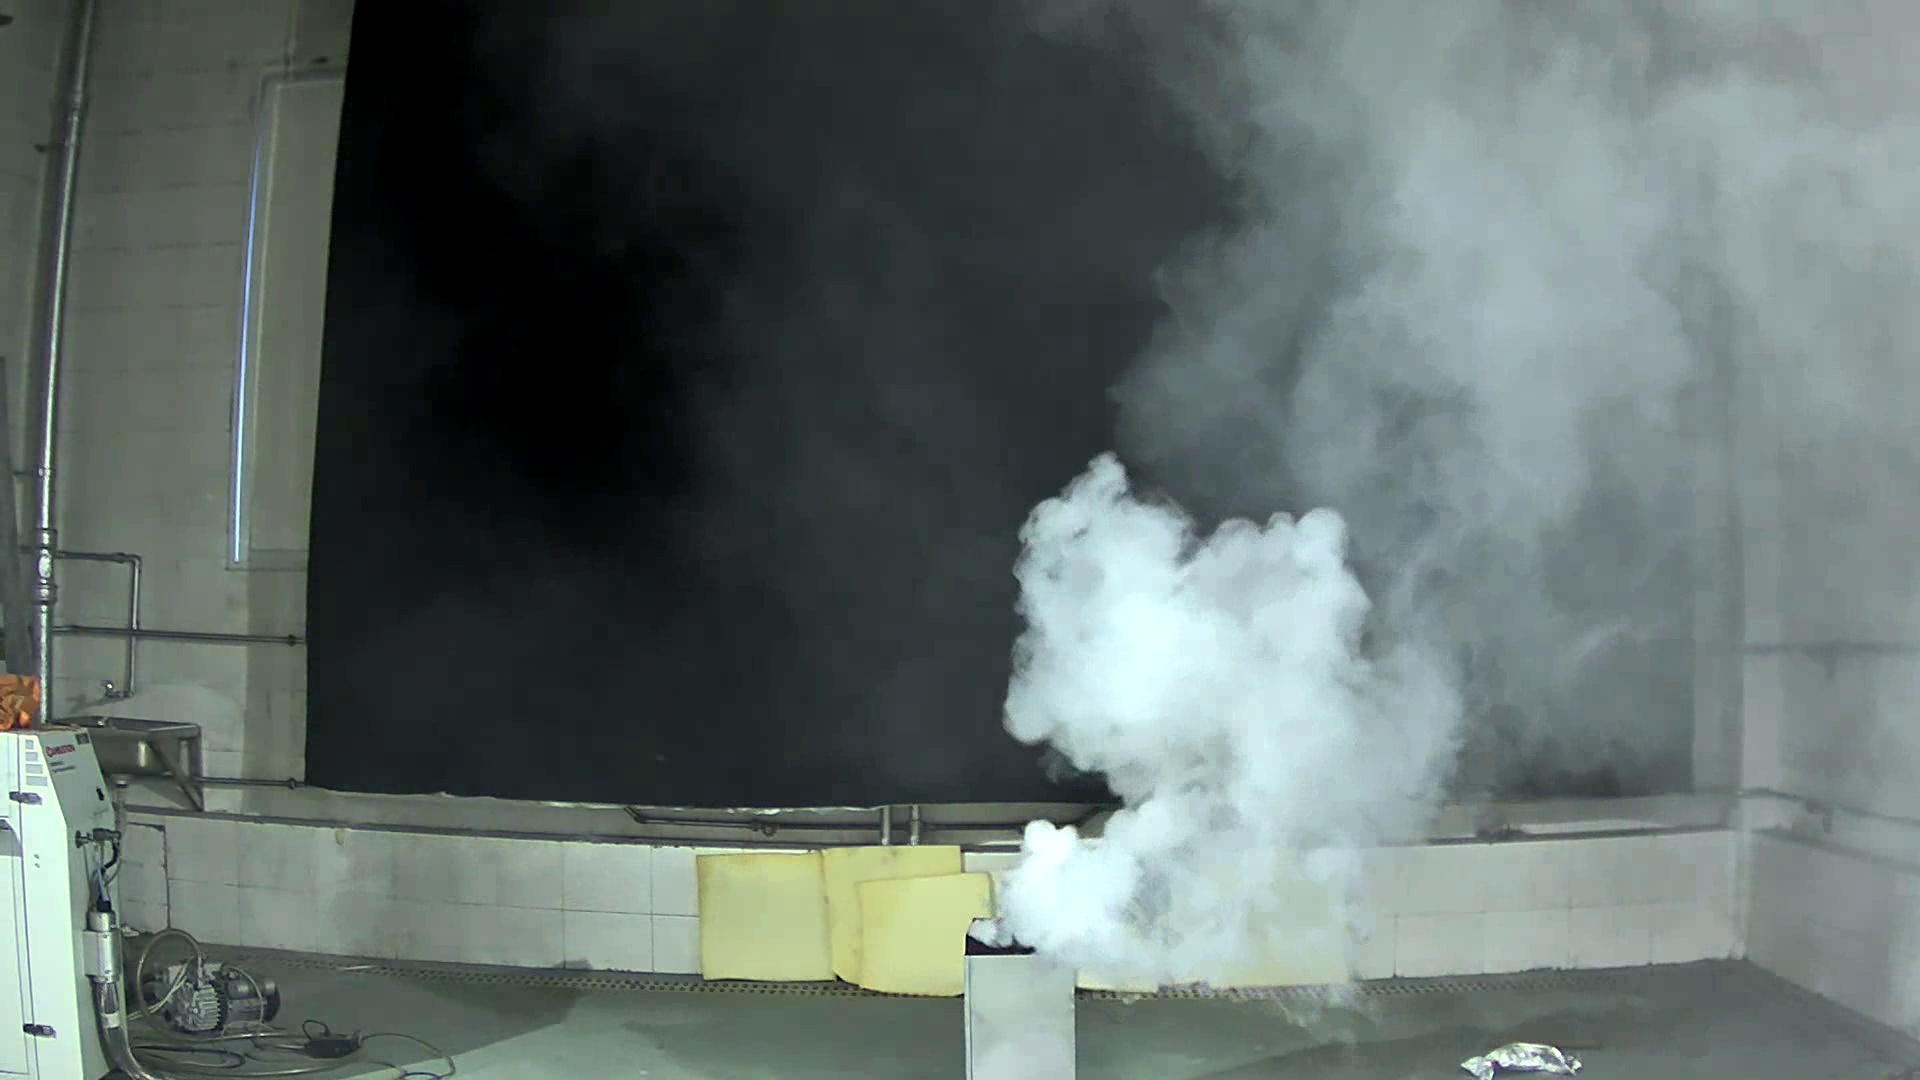smoke: (953, 472, 1427, 967)
